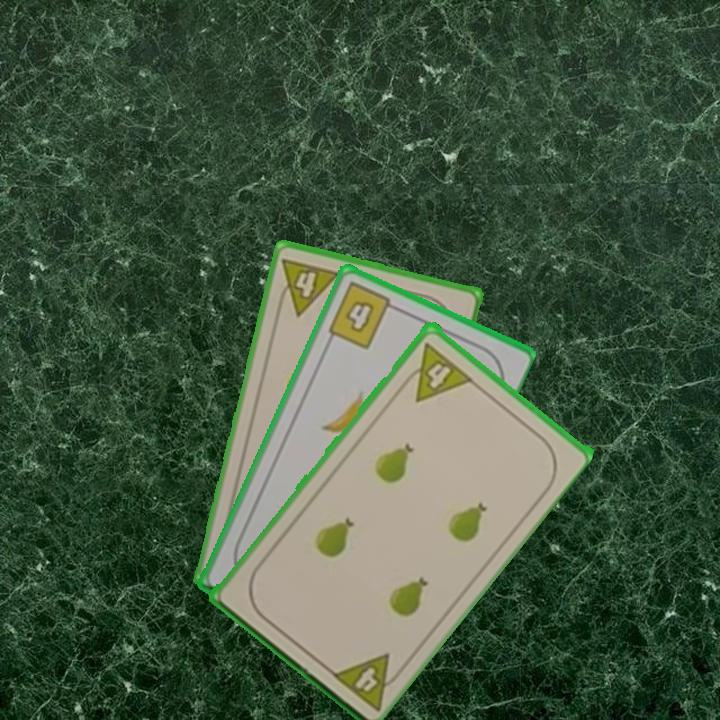4b: (324, 278, 402, 352)
4p: (326, 648, 409, 713), (397, 338, 475, 404), (272, 254, 343, 319)
